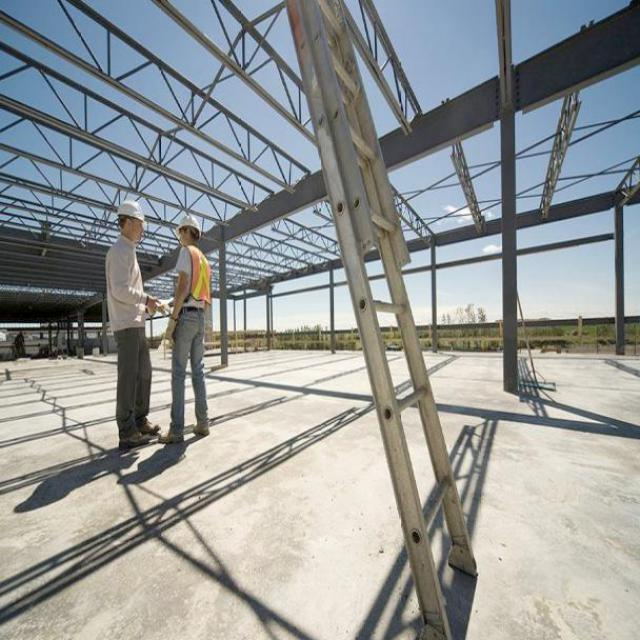helmet: (171, 202, 202, 255), (116, 188, 145, 241)
vest: (168, 246, 215, 302)
